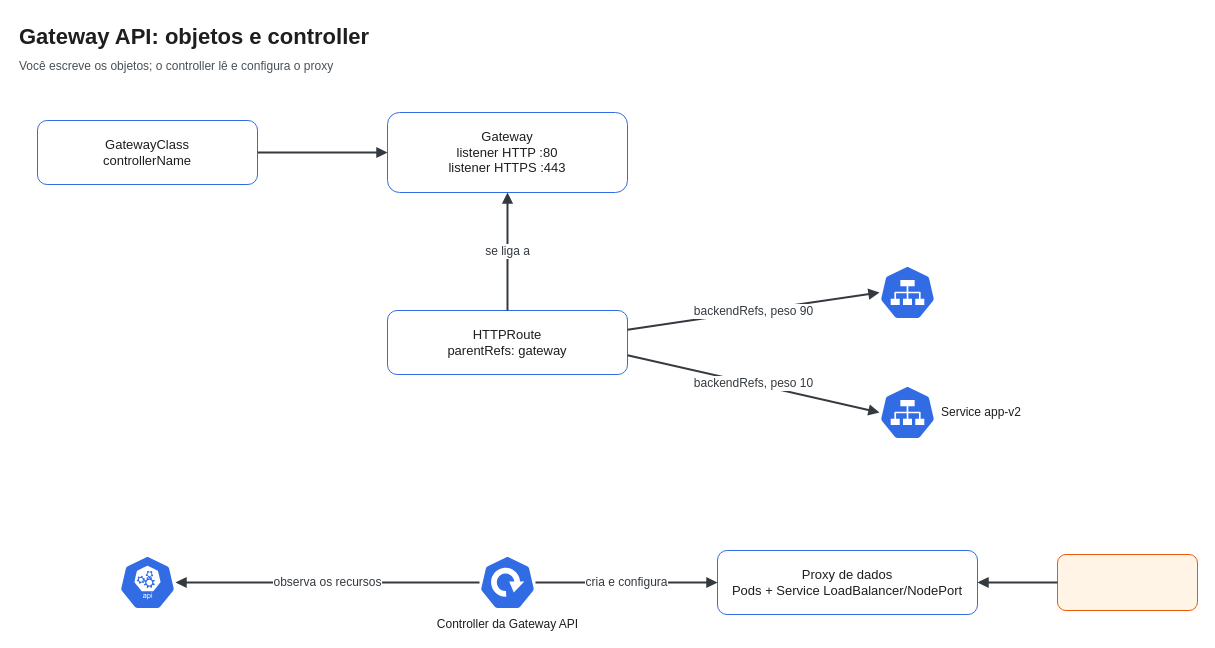
The diagram is 1215 pixels wide and 648 high, and some of its shapes have lost their labels. Here are the shapes that lost their labels. From the top down, the centre of each, then its label:
point 907,292: Service app-v1
point 147,582: kube-apiserver
point 1127,582: Cliente externo
